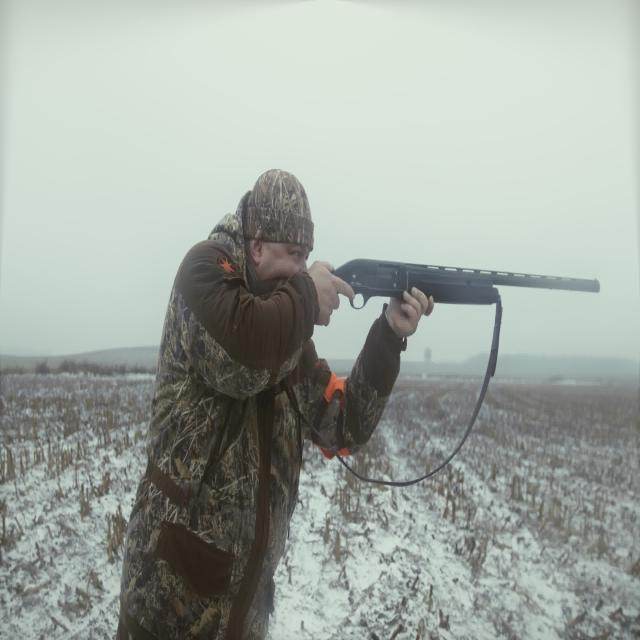poacher: (210, 207, 362, 608)
weapon: (284, 184, 394, 313)
